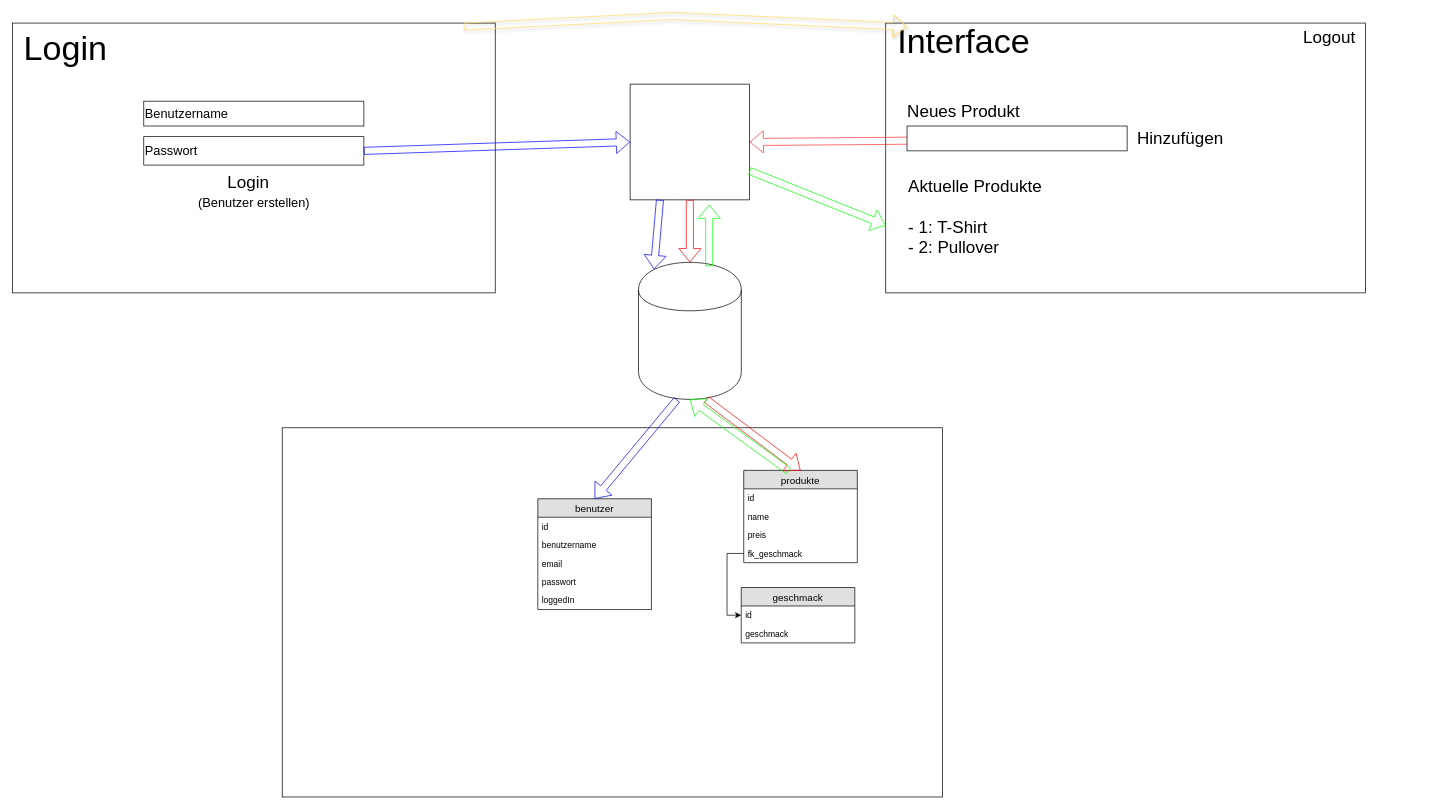
Image size: 1438x809. Some labels were removed from this diagram. The centre of each missing label's shape, as x and y in pixels:
"DB" belongs at [689,330].
"PHP" belongs at [689,141].
